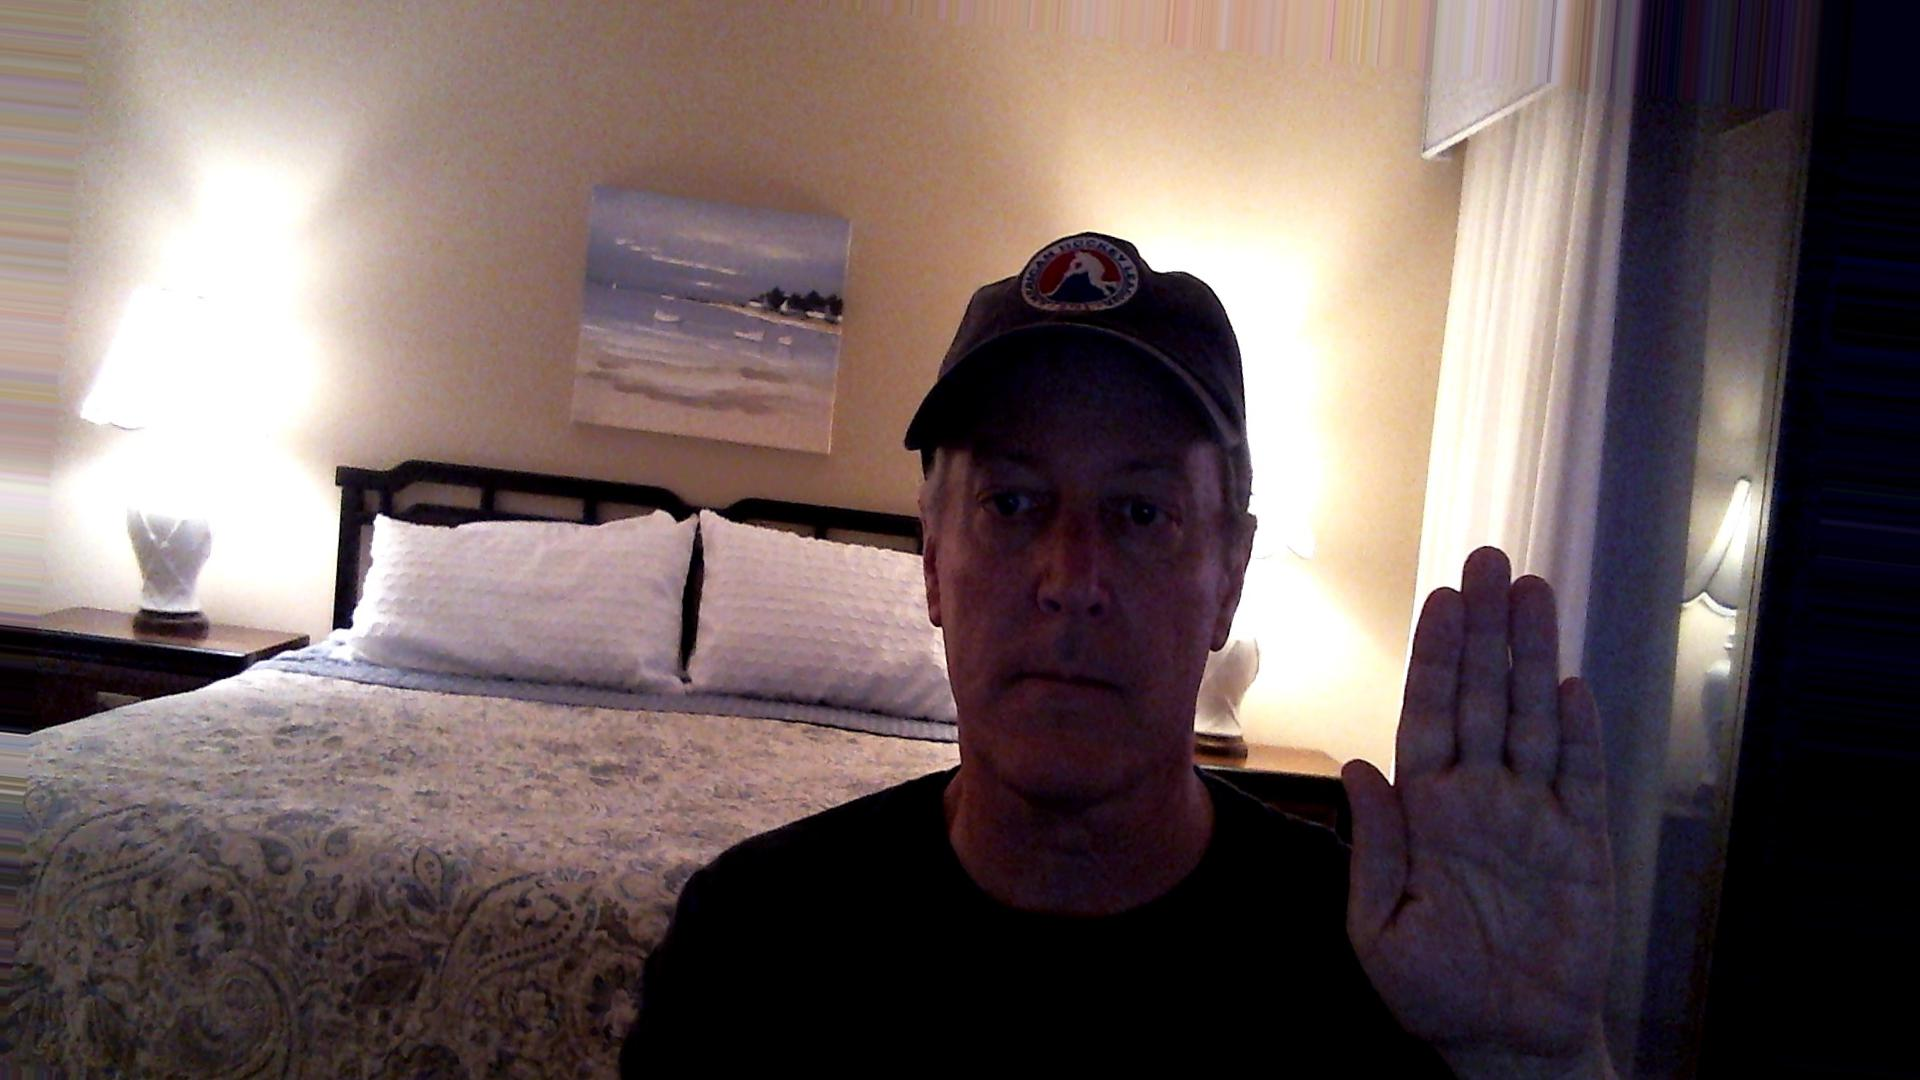Hello: (1333, 524, 1677, 1073)
